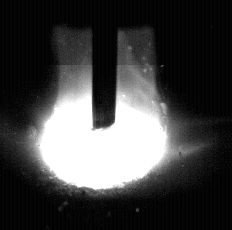arame: (93, 0, 117, 131)
poca: (39, 0, 169, 230)
